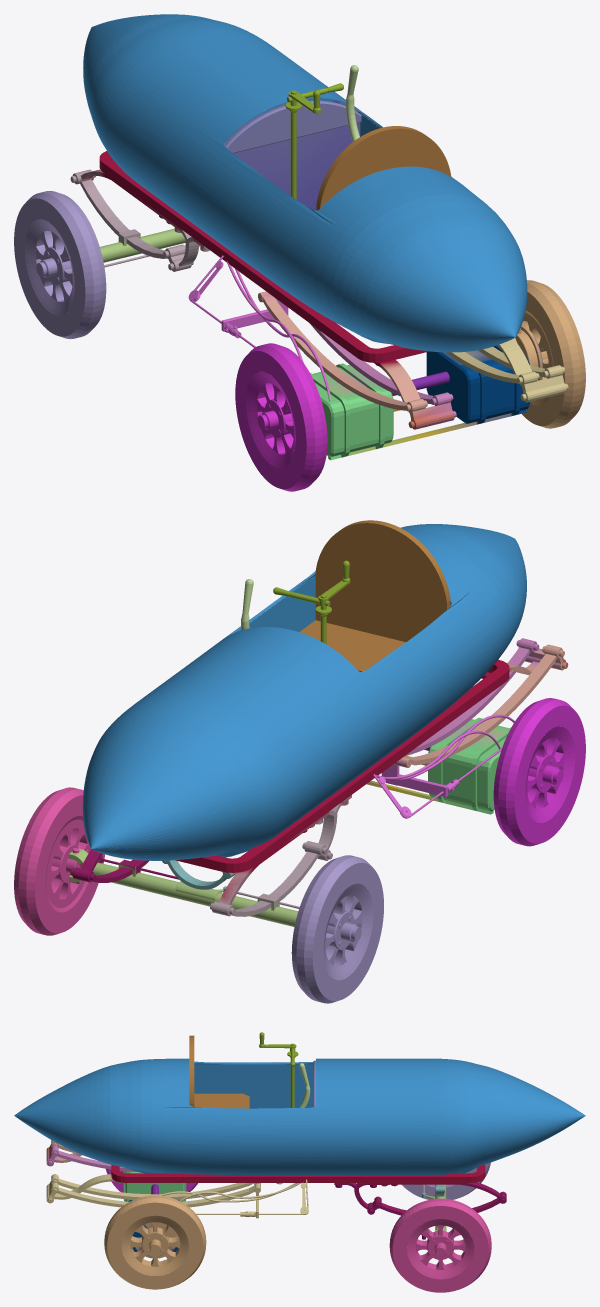
3 renders of one model, top to bottom at view 1: azimuth 30°, elevation 25°; view 2: azimuth 150°, elevation 25°; view 3: azimuth 270°, elevation 25°, orthographic. The views are drawn at different scales.
Parts seen in each view (by area): view 1: world; view 2: world; view 3: world.
Boxes of the visible parts, left/top/right/bottom form: world: left=14, top=14, right=585, bottom=491; world: left=14, top=520, right=585, bottom=1003; world: left=14, top=1032, right=585, bottom=1292.
Size of the model in its own units: 0.4334 by 0.4022 by 1.
